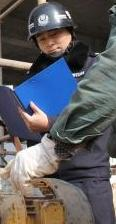gloves: (0, 133, 62, 194)
hard-hat: (27, 2, 77, 41)
